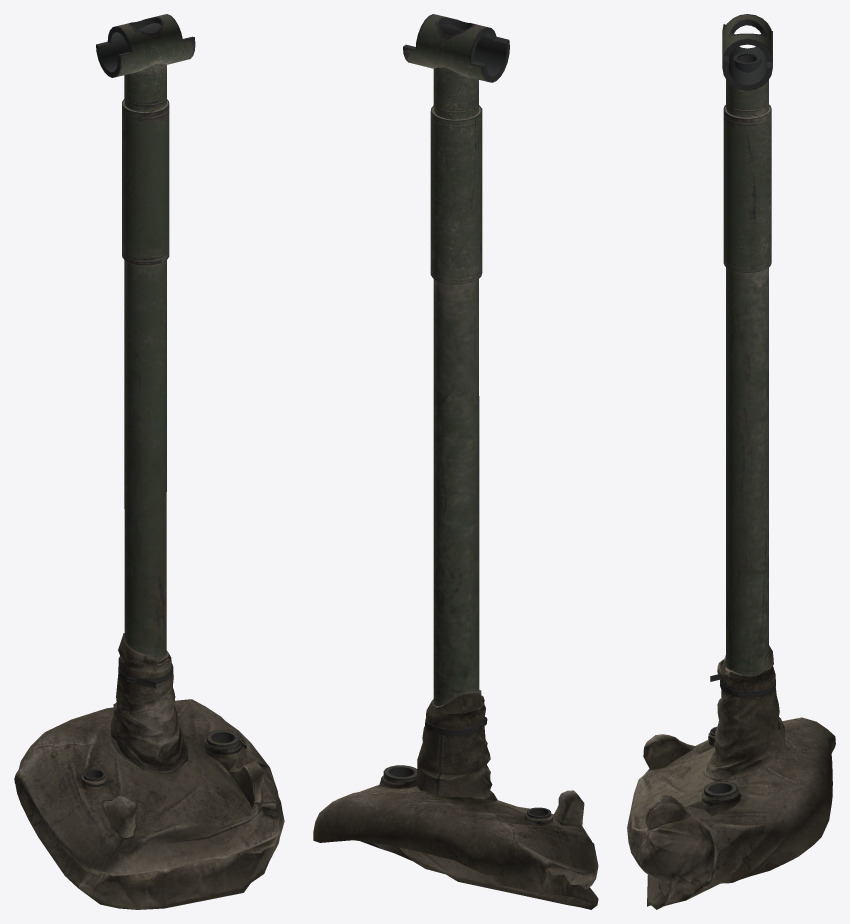
The model's file is Gun_01.glb.
3 renders of one model, left to right at view 1: azimuth 30°, elevation 25°; view 2: azimuth 150°, elevation 25°; view 3: azimuth 270°, elevation 25°, orthographic. The views are drawn at different scales.
Visible parts, largest first — view 1: set_0_group_0; view 2: set_0_group_0; view 3: set_0_group_0.
Boxes of the visible parts, left/top/right/bottom form: set_0_group_0: left=14, top=14, right=284, bottom=909; set_0_group_0: left=313, top=14, right=598, bottom=909; set_0_group_0: left=627, top=14, right=835, bottom=909.
Size of the model in its own units: 1.09 by 3.91 by 0.8643.
1 material, 1 textured.
